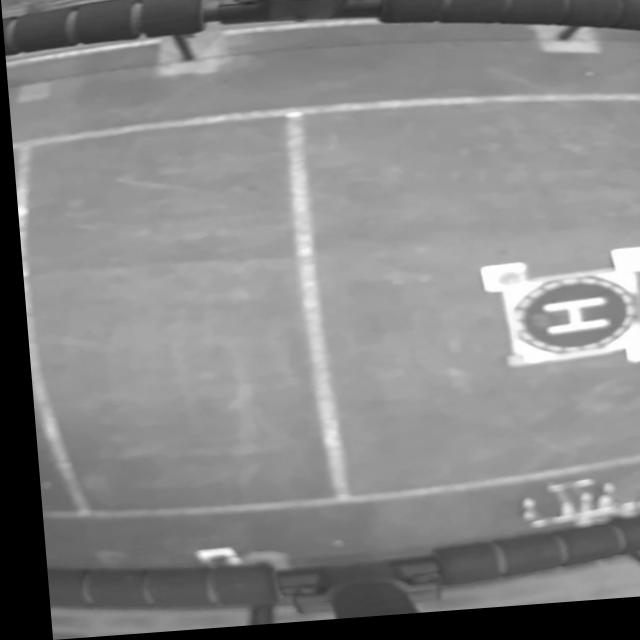Helipad: (534, 305, 604, 343)
